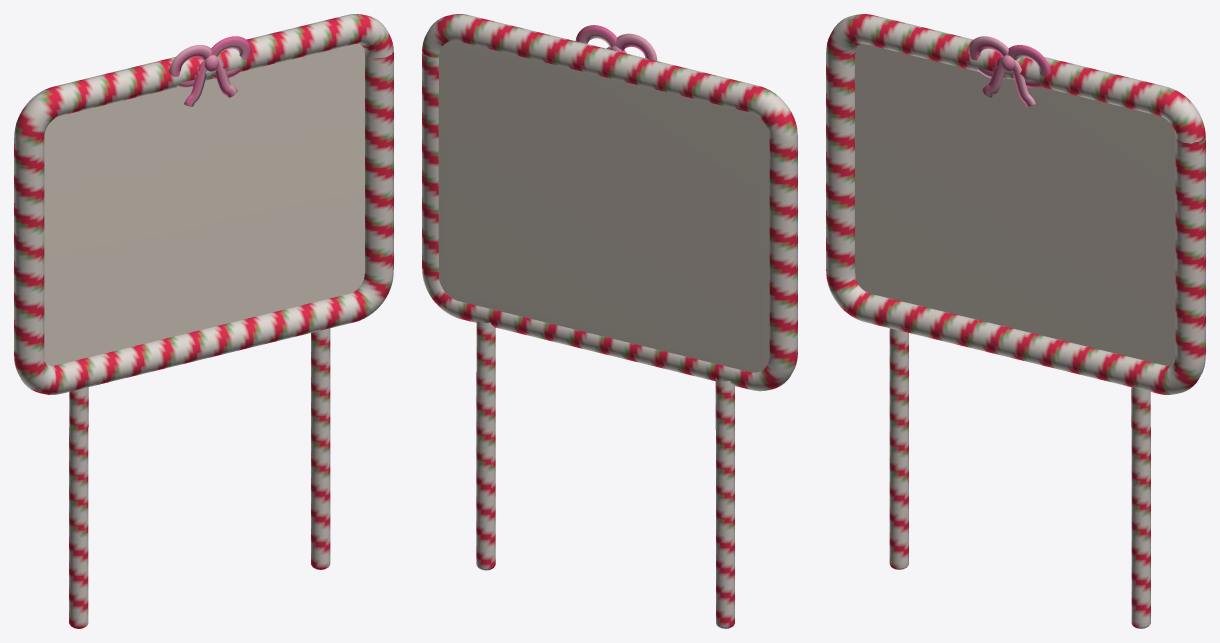
The model's file is sign.glb.
The picture shows the model from 3 angles, left to right: view 1: azimuth 30°, elevation 25°; view 2: azimuth 150°, elevation 25°; view 3: azimuth 330°, elevation 25°; orthographic projection.
Visible parts, largest first — view 1: SignFrame; view 2: SignFrame; view 3: SignFrame.
Boxes of the visible parts, bbox=[...] form: SignFrame: bbox=[14, 14, 393, 628]; SignFrame: bbox=[422, 14, 797, 628]; SignFrame: bbox=[826, 14, 1205, 628].
Bounding box in the file's own units: 4.04 × 5.81 × 0.3711.
